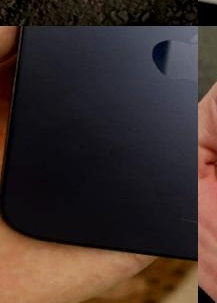scratch: (167, 205, 198, 240)
